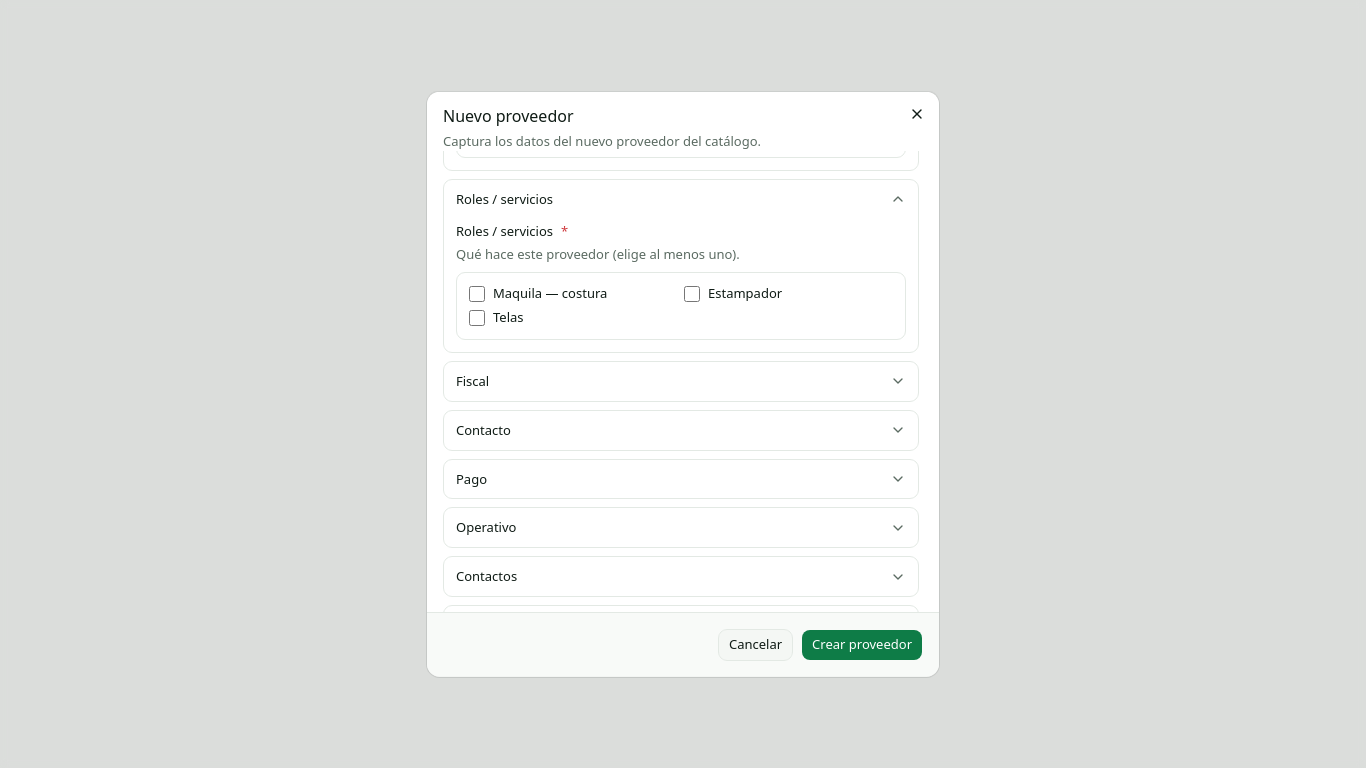
Test: <DialogoProveedor> › si no emite CFDI, no se piden datos fiscales (§Post-F9.56 punto 4) › al ENCENDERLA aparecen los campos fiscales
(page scrolled)
Click the button "Fiscal": click(473, 381) [444,362,918,400]
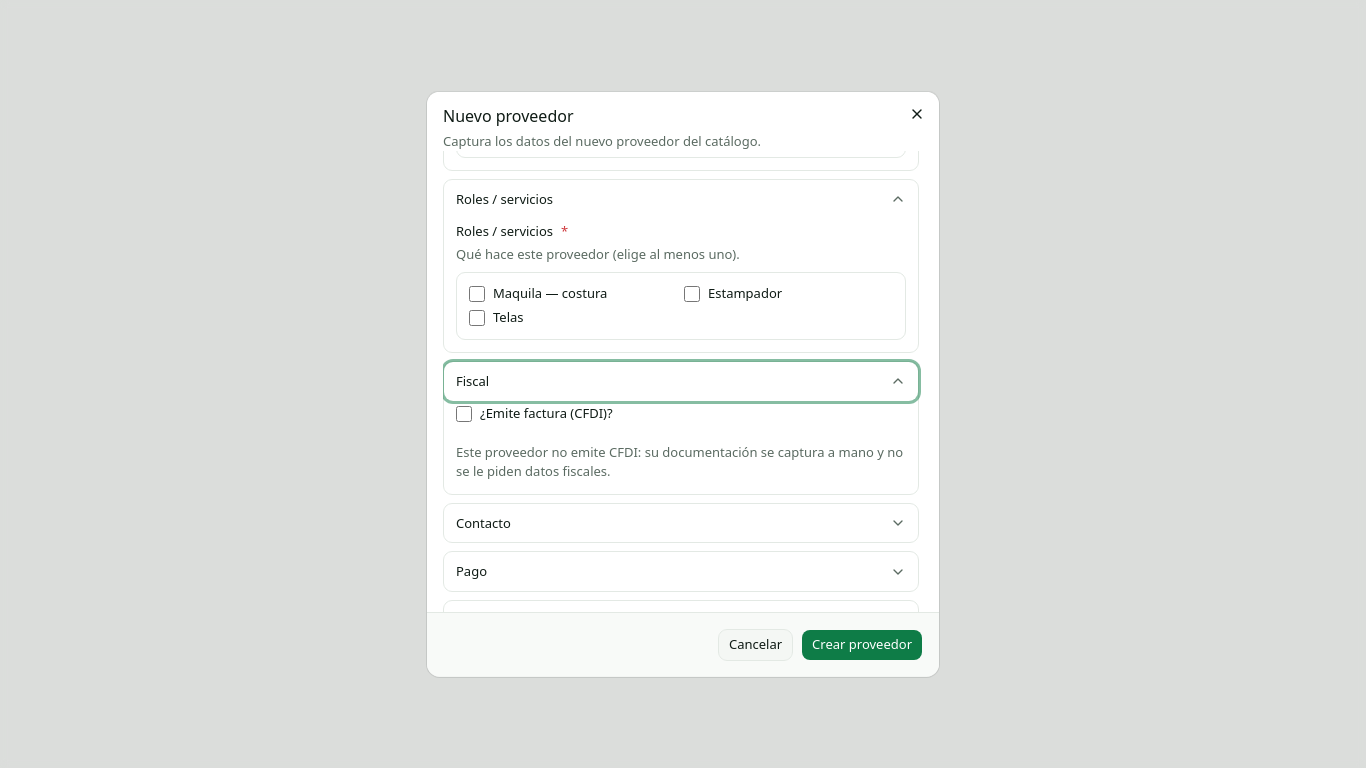
Click the checkbox with test id "proveedor-factura": click(464, 413) [456,405,472,421]
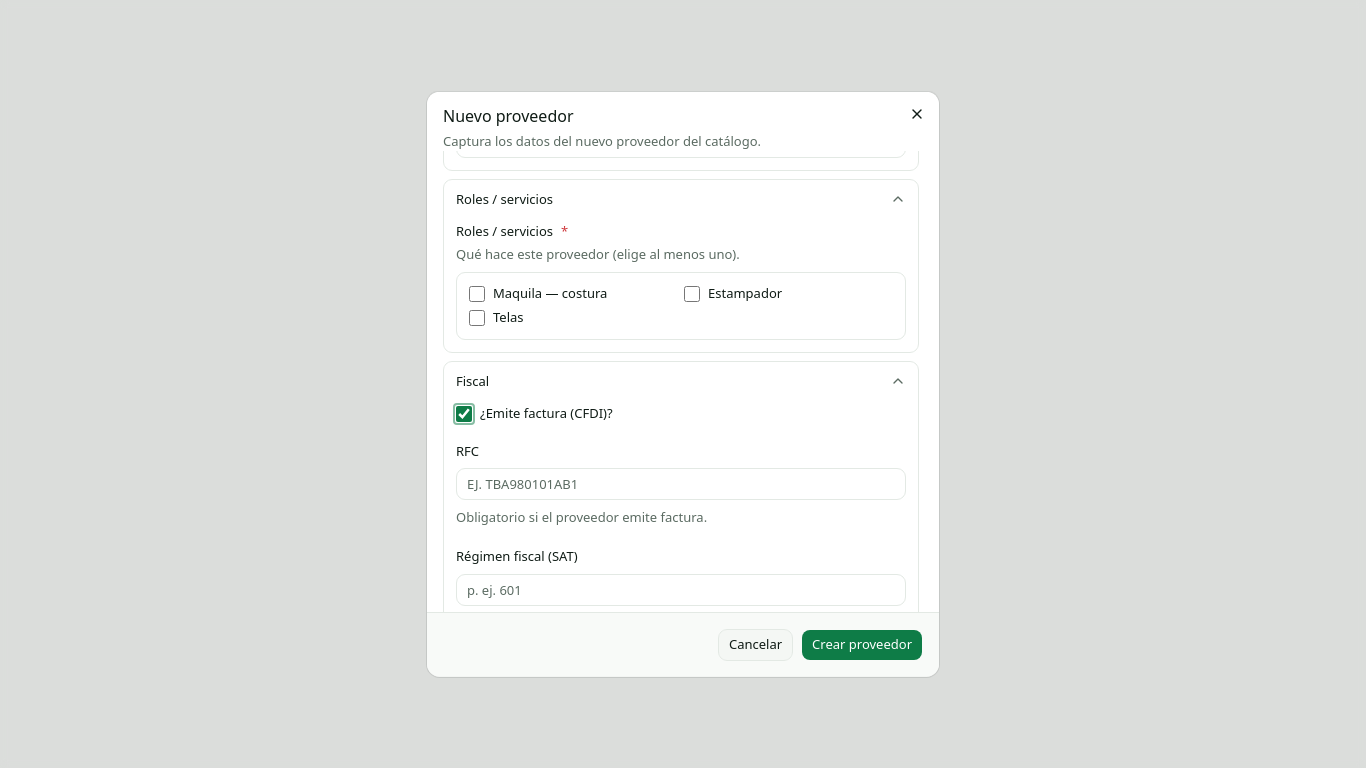
expect the field labelled "RFC" is shown: met, box [456,468,906,500]
expect the field labelled "Régimen fiscal (SAT)" is shown: met, box [456,574,906,606]
expect the text with test id "aviso-sin-cfdi" is gone: met
